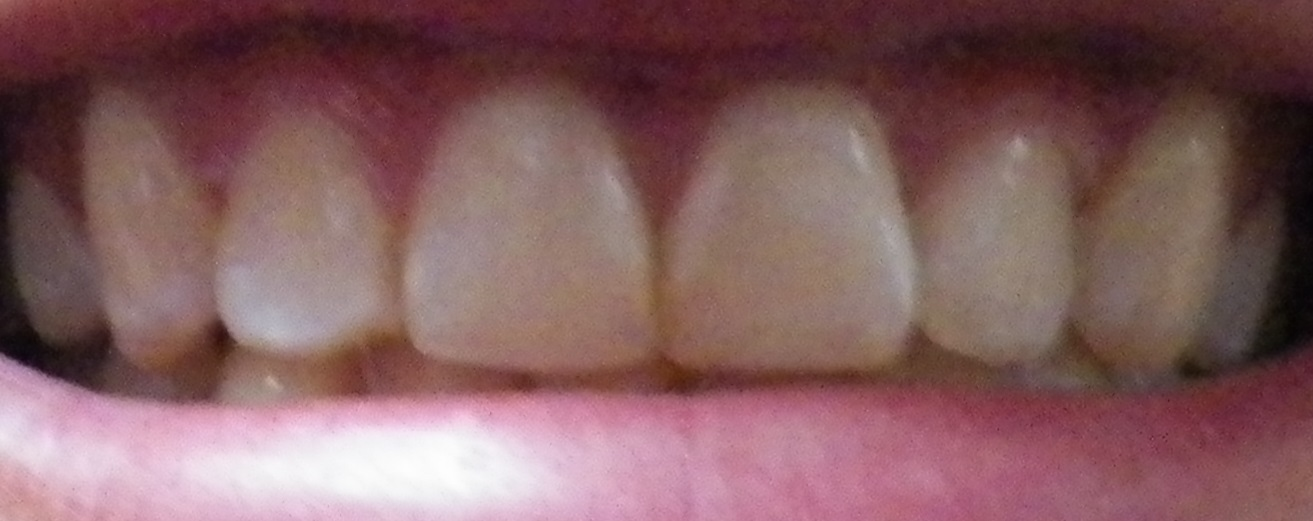boca: (1, 72, 1298, 389)
